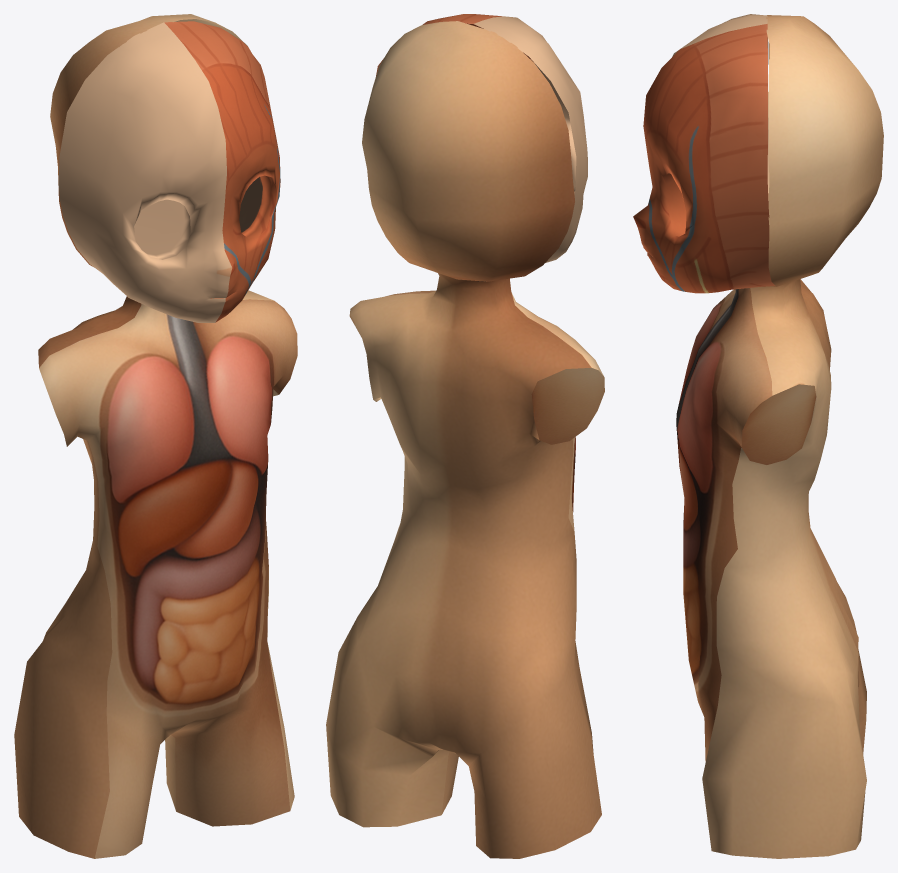
The model's file is Minchan!!!_1027.fbx.
3 renders of one model, left to right at view 1: azimuth 30°, elevation 25°; view 2: azimuth 150°, elevation 25°; view 3: azimuth 270°, elevation 25°, orthographic.
Parts seen in each view (by area): view 1: pSphere3, pSphere4; view 2: pSphere3, pSphere4; view 3: pSphere3, pSphere4.
Boxes of the visible parts, box(x1,y1,x2,y2) form: pSphere3: box(14, 290, 297, 858); pSphere4: box(50, 14, 280, 322); pSphere3: box(326, 273, 604, 858); pSphere4: box(362, 14, 587, 281); pSphere3: box(676, 279, 866, 858); pSphere4: box(633, 14, 883, 293).
Bounding box in the file's own units: 113 × 346 × 99.38.
